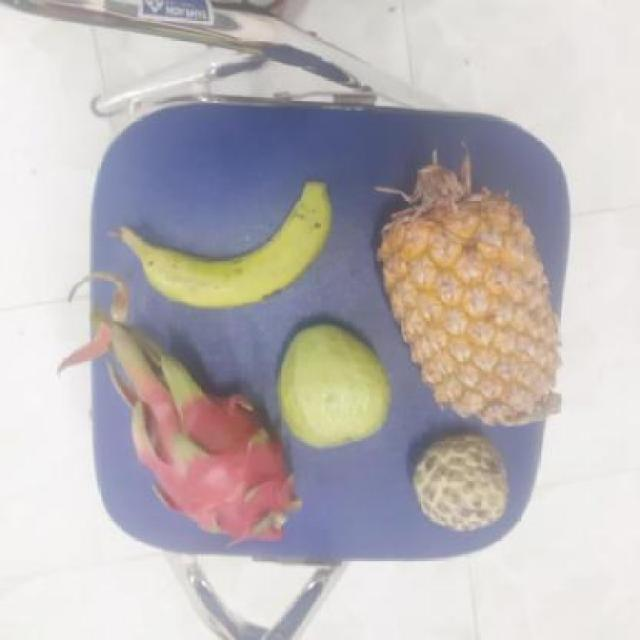banana: (114, 191, 328, 308)
dragon fruit: (136, 383, 295, 543)
guava: (272, 325, 390, 448)
pineapple: (375, 181, 555, 424)
sugar apple: (410, 436, 508, 529)
